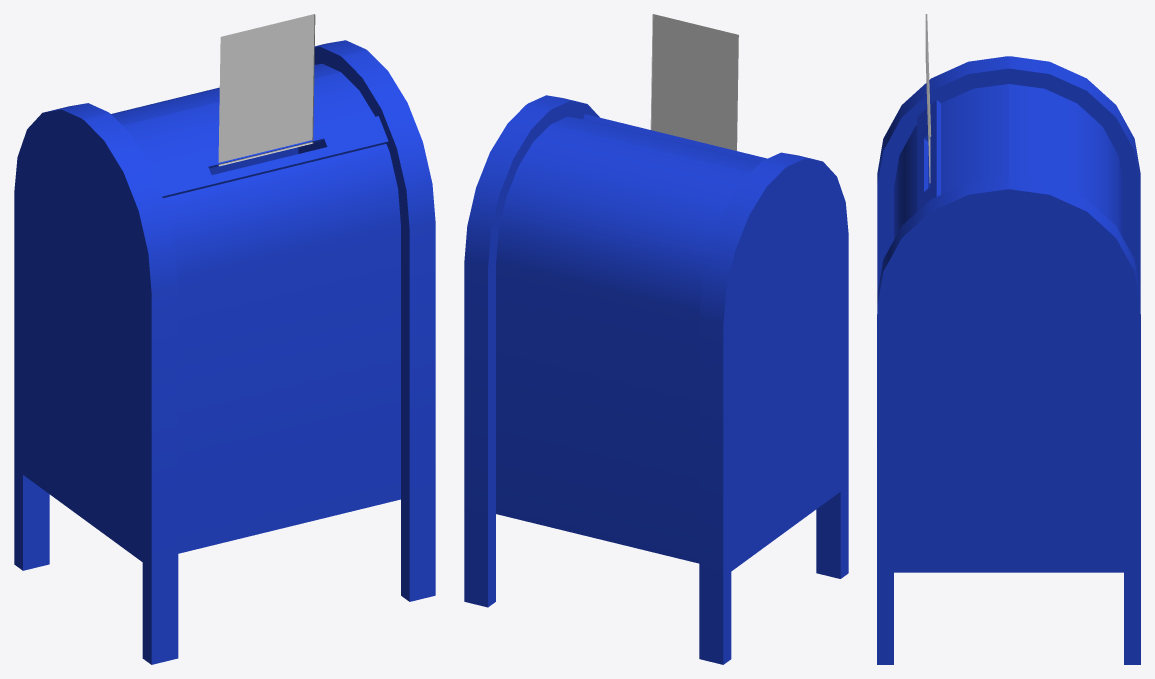
Rendered from Mailbox3.glb.
The picture shows the model from 3 angles, left to right: view 1: azimuth 30°, elevation 25°; view 2: azimuth 150°, elevation 25°; view 3: azimuth 270°, elevation 25°; orthographic projection. The views are drawn at different scales.
Visible parts, largest first — view 1: Mailbox, Plane; view 2: Mailbox, Plane; view 3: Mailbox, Plane.
Boxes of the visible parts, box(x1,y1,x2,y2) form: Mailbox: box(14, 40, 435, 664); Plane: box(218, 14, 315, 166); Mailbox: box(464, 95, 848, 664); Plane: box(650, 14, 738, 150); Mailbox: box(877, 56, 1140, 664); Plane: box(925, 14, 931, 182).
Size of the model in its own units: 2 by 3.94 by 1.67.
